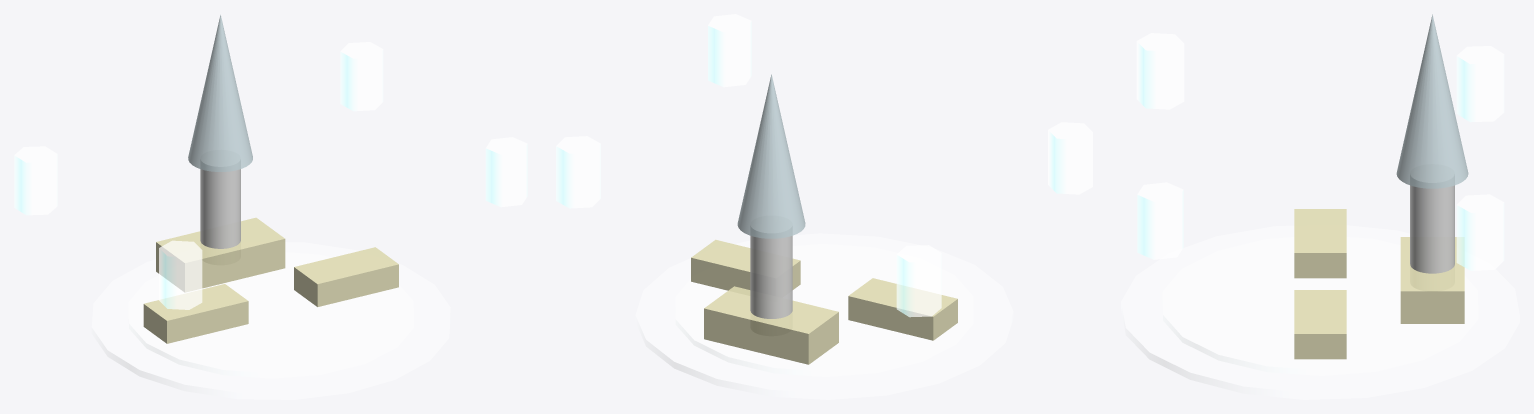
File: sky_palace.gltf
3 renders of one model, left to right at view 1: azimuth 30°, elevation 25°; view 2: azimuth 150°, elevation 25°; view 3: azimuth 270°, elevation 25°, orthographic. The views are drawn at different scales.
Size of the model in its own units: 577 by 416 by 498.
